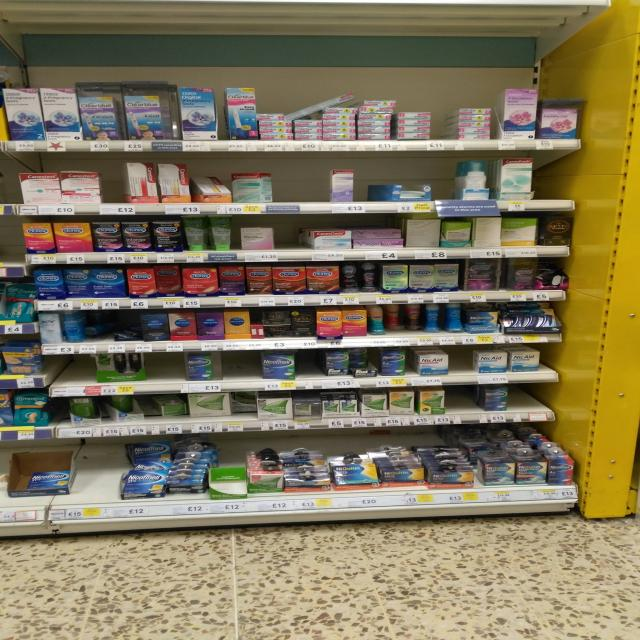void: (77, 441, 124, 500), (278, 160, 328, 202), (39, 354, 94, 380), (512, 382, 556, 411), (152, 352, 184, 381), (226, 351, 258, 378)
